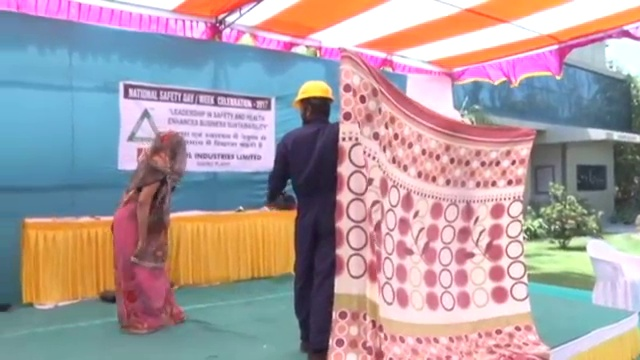helmet: (293, 80, 335, 109)
helmet_off: (155, 127, 184, 154)
helmet_on: (293, 79, 334, 125)
person: (266, 80, 339, 356), (106, 128, 188, 335)
